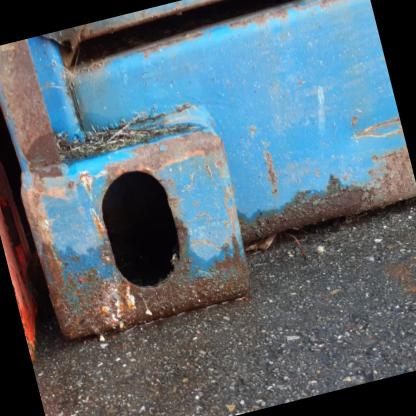CornerCasting: (11, 105, 262, 346)
